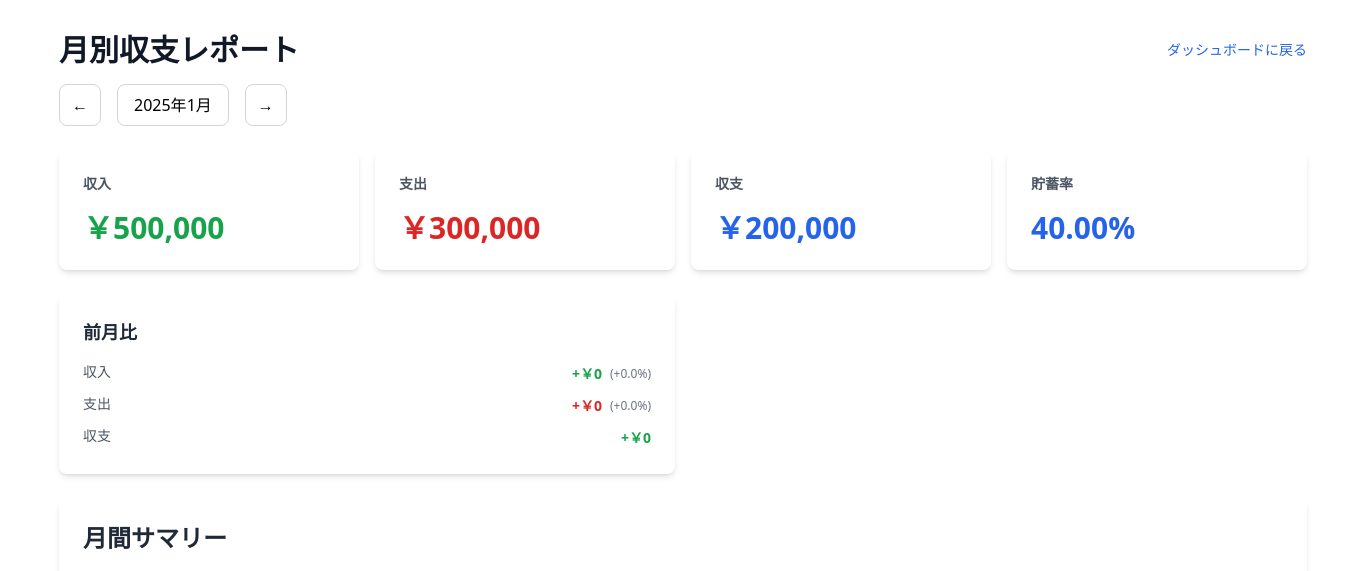
MonthlyBalanceReportPage › モーダルをキャンセルできる
Check: the heading "月別収支レポート" is shown, box 59,32 -> 299,68
// 月選択ボタンをクリック
Click the button "2025年1月" at (173, 105), box 117,84 -> 229,126
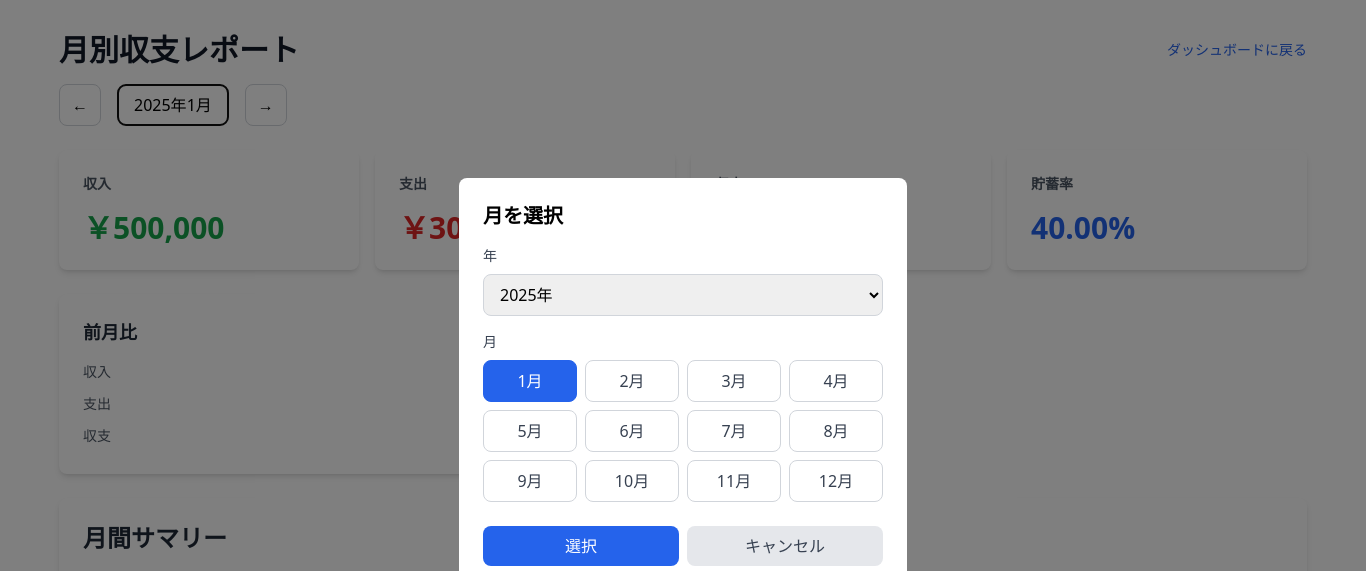
Check: the heading "月を選択" is shown, box 483,202 -> 563,229
// キャンセルボタンをクリック
Click the button "キャンセル" at (785, 546), box 687,526 -> 883,566
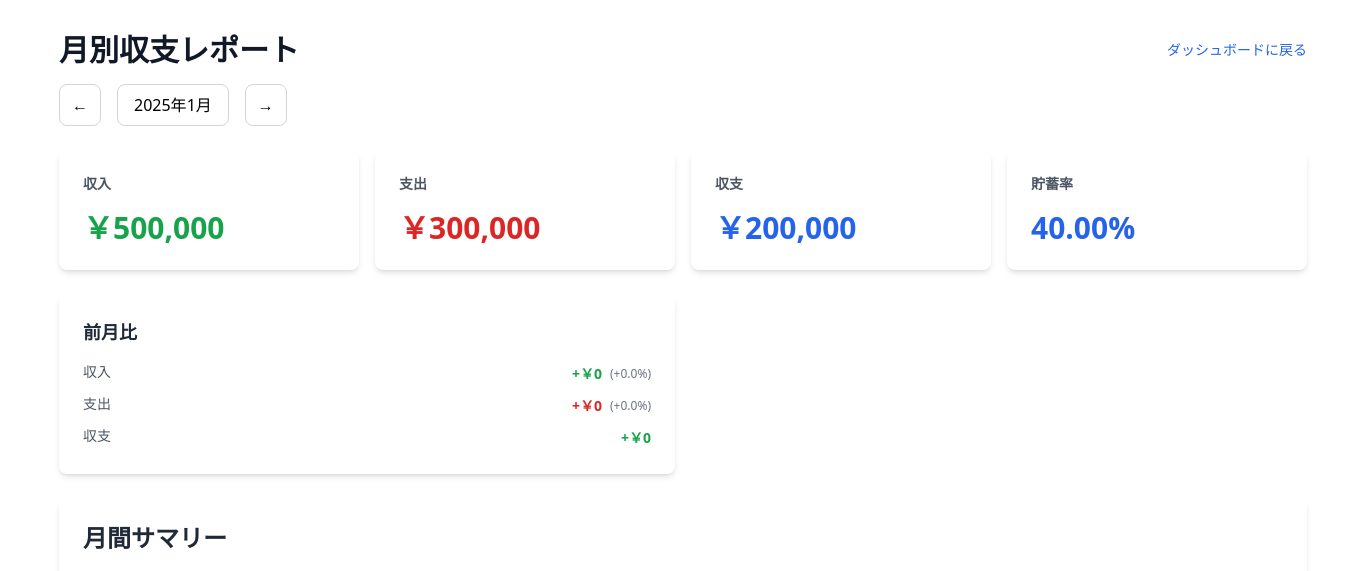
Check: the heading "月を選択" is gone
